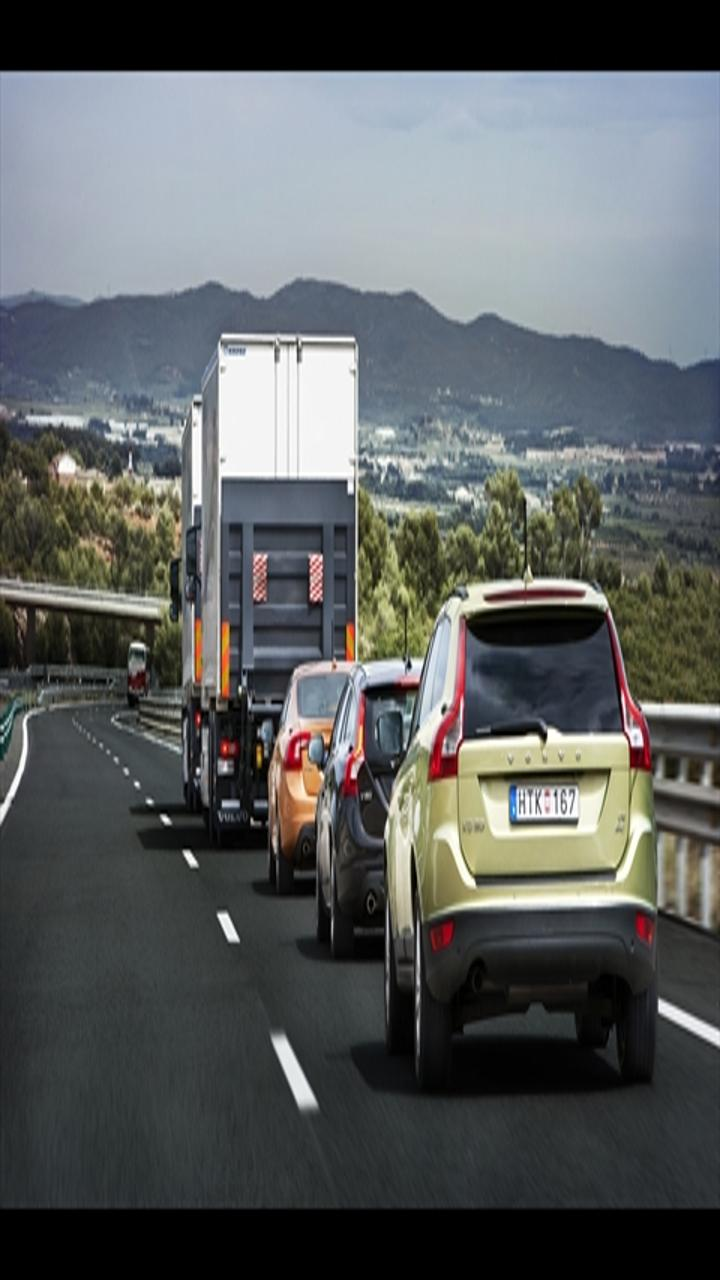vehicle: (367, 581, 666, 1081), (175, 320, 370, 824), (319, 650, 460, 956), (269, 638, 410, 944)
